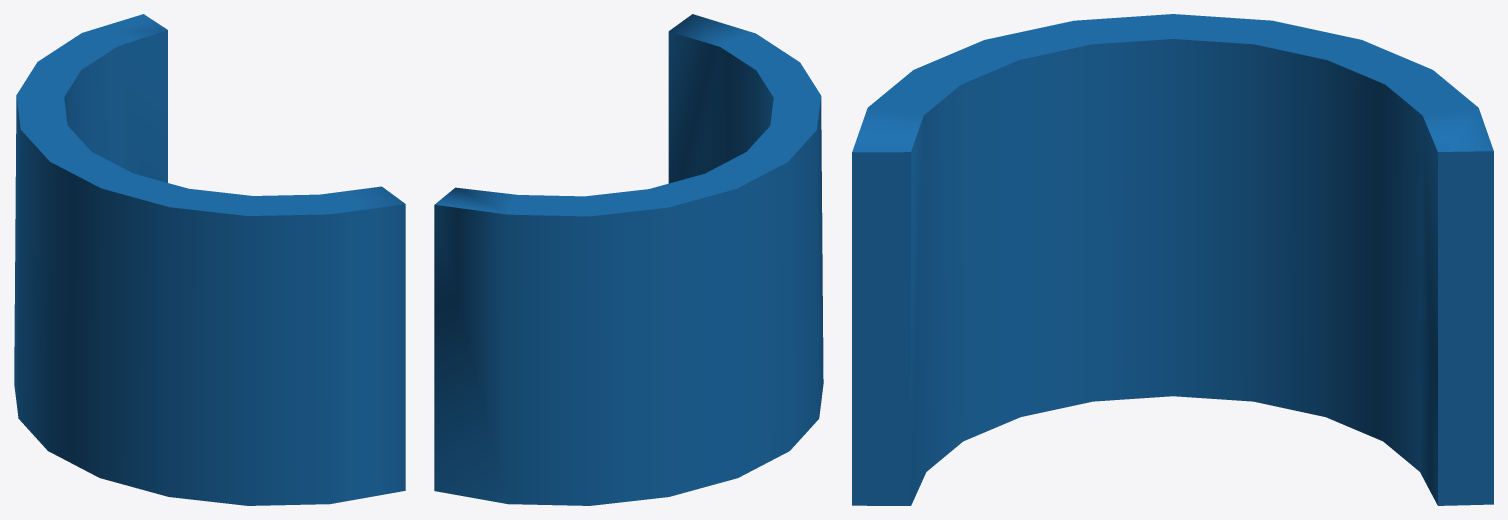
The model's file is Edge_Turn_180_03.fbx.
3 views of the same model, side by side, from view 1: azimuth 30°, elevation 25°; view 2: azimuth 150°, elevation 25°; view 3: azimuth 270°, elevation 25° (orthographic). The views are drawn at different scales.
Visible parts, largest first — view 1: Edge_Turn_180_03; view 2: Edge_Turn_180_03; view 3: Edge_Turn_180_03.
Boxes of the visible parts, left/top/right/bottom form: Edge_Turn_180_03: left=14, top=14, right=405, bottom=505; Edge_Turn_180_03: left=434, top=14, right=823, bottom=505; Edge_Turn_180_03: left=852, top=14, right=1493, bottom=505.
Bounding box in the file's own units: 2.37 × 2.88 × 4.7.
